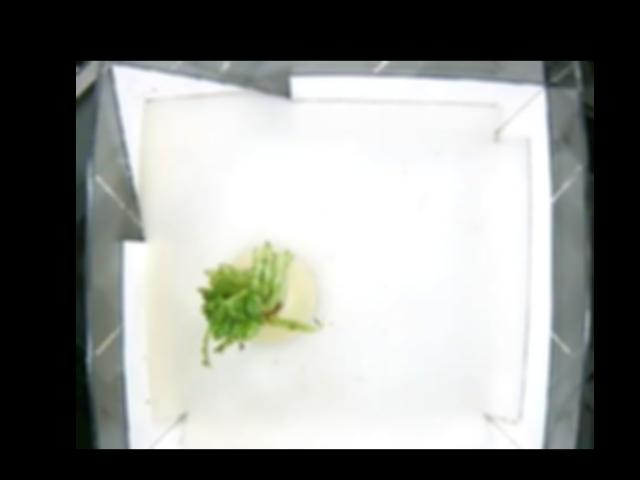Mooli: (198, 238, 322, 349)
